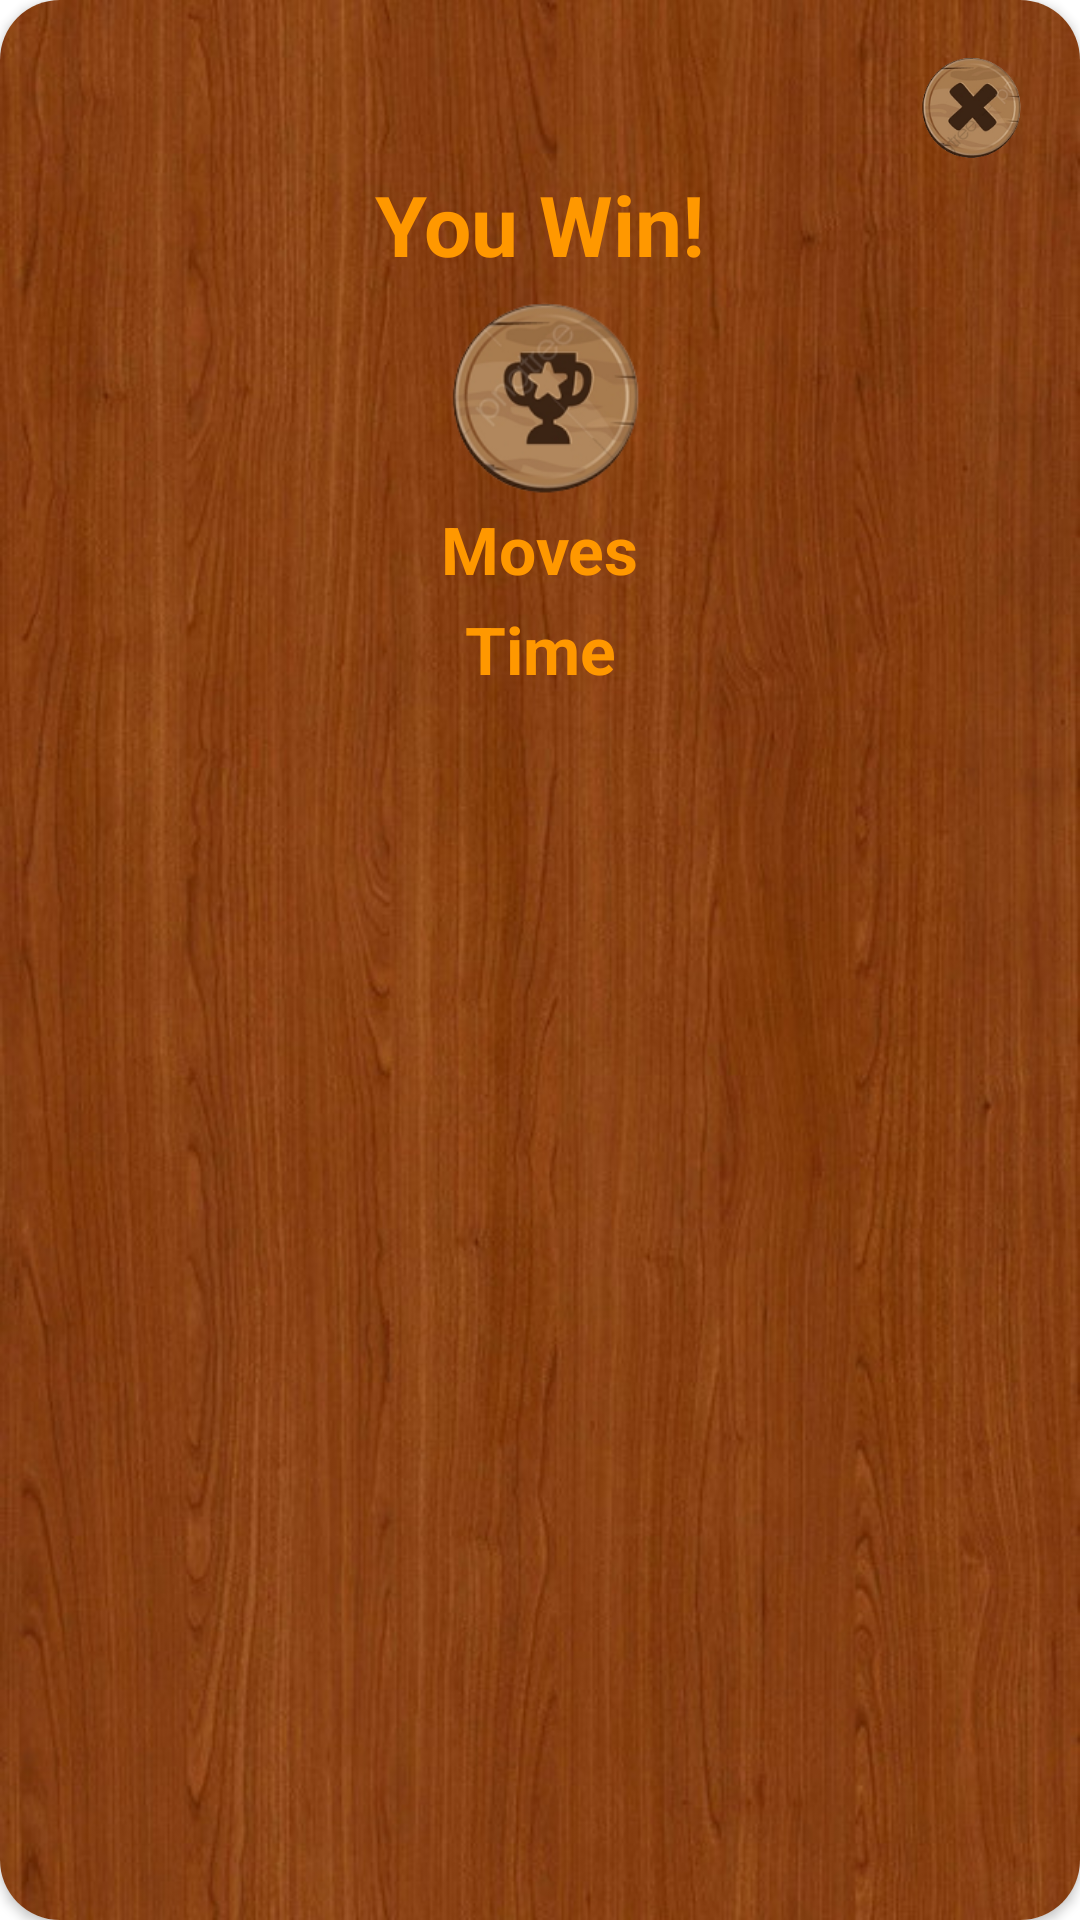

Where to tap for icons on this 1080 × 1920 app screen, as (x,y):
cup: (546,398)
